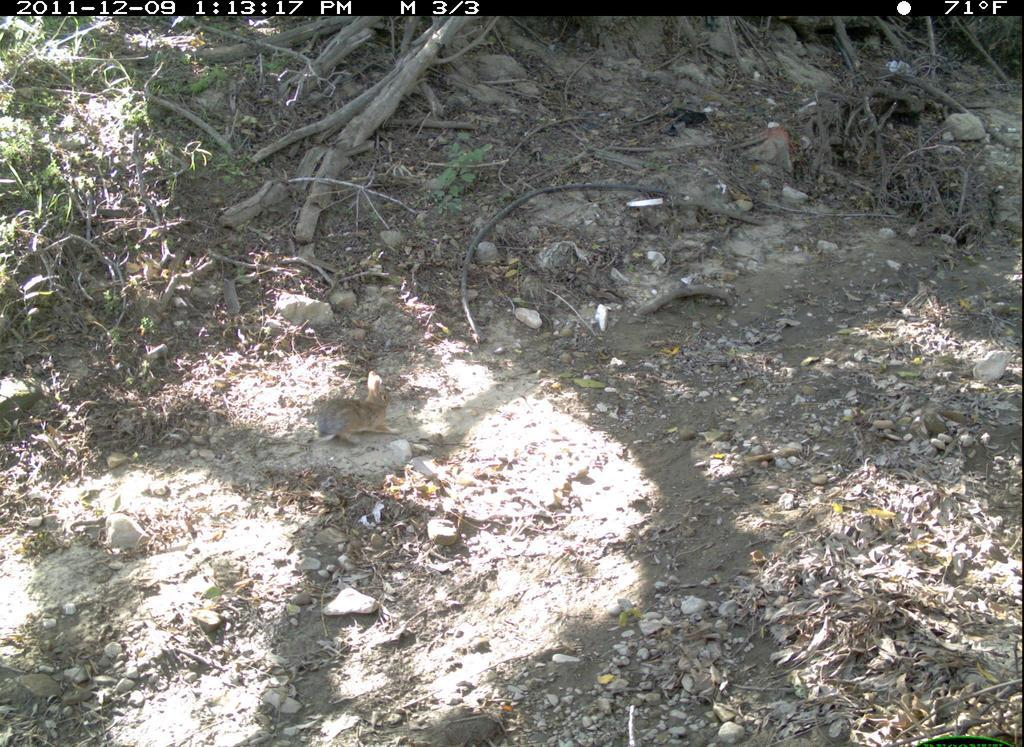rabbit: (304, 364, 405, 456)
